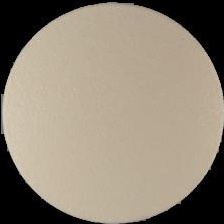0615-7660: (0, 0, 224, 224)
